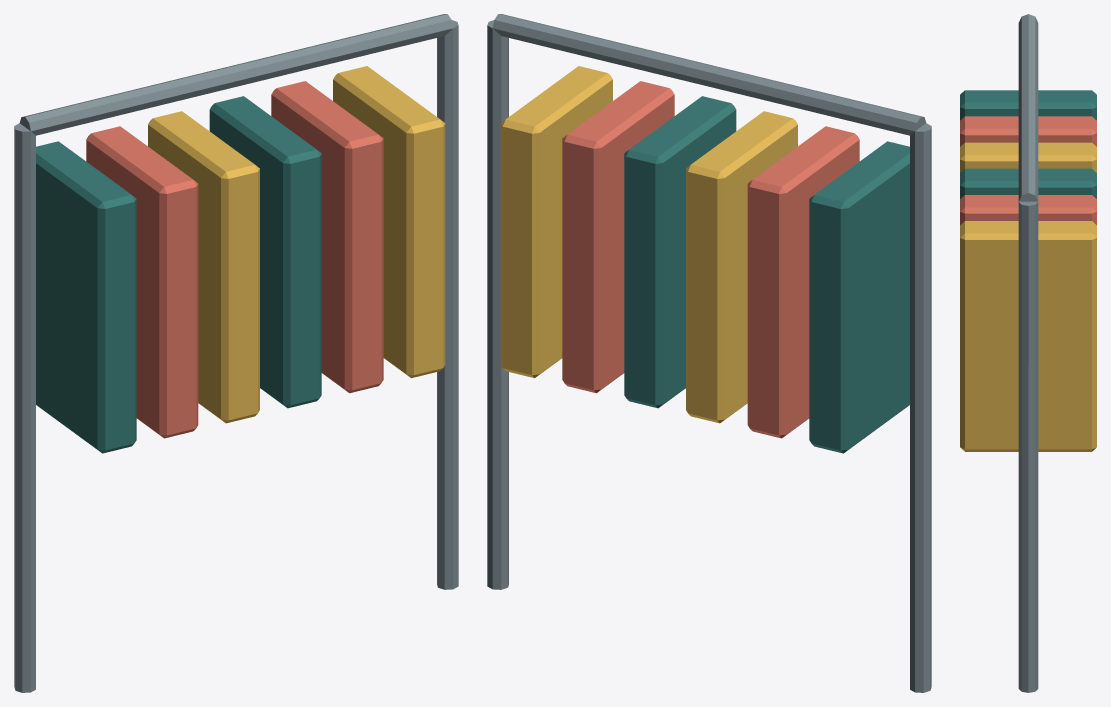
The model's file is Prop_ClothingRack.fbx.
3 renders of one model, left to right at view 1: azimuth 30°, elevation 25°; view 2: azimuth 150°, elevation 25°; view 3: azimuth 270°, elevation 25°, orthographic. The views are drawn at different scales.
Parts seen in each view (by area): view 1: HangingGarment, HangingGarment.004, HangingGarment.005, HangingGarment.001, HangingGarment.003, HangingGarment.002, Post, Post.001, TopRail; view 2: HangingGarment, HangingGarment.004, HangingGarment.005, HangingGarment.001, HangingGarment.003, HangingGarment.002, Post, Post.001, TopRail; view 3: HangingGarment.005, Post.001, TopRail, HangingGarment, HangingGarment.001, HangingGarment.002, HangingGarment.003, HangingGarment.004.
Boxes of the visible parts, x1=… form: HangingGarment: x1=36, y1=141, x2=136, y2=453; HangingGarment.004: x1=271, y1=81, x2=383, y2=393; HangingGarment.005: x1=333, y1=66, x2=445, y2=378; HangingGarment.001: x1=86, y1=126, x2=198, y2=438; HangingGarment.003: x1=209, y1=96, x2=321, y2=408; HangingGarment.002: x1=148, y1=111, x2=259, y2=423; Post: x1=14, y1=123, x2=35, y2=692; Post.001: x1=437, y1=20, x2=458, y2=589; TopRail: x1=19, y1=14, x2=453, y2=135; HangingGarment: x1=809, y1=141, x2=909, y2=453; HangingGarment.004: x1=562, y1=81, x2=674, y2=393; HangingGarment.005: x1=500, y1=66, x2=612, y2=378; HangingGarment.001: x1=747, y1=126, x2=859, y2=438; HangingGarment.003: x1=624, y1=96, x2=736, y2=408; HangingGarment.002: x1=686, y1=111, x2=797, y2=423; Post: x1=910, y1=123, x2=931, y2=692; Post.001: x1=487, y1=20, x2=508, y2=589; TopRail: x1=492, y1=14, x2=926, y2=135; HangingGarment.005: x1=960, y1=221, x2=1096, y2=451; Post.001: x1=1018, y1=201, x2=1038, y2=692; TopRail: x1=1018, y1=14, x2=1038, y2=201; HangingGarment: x1=960, y1=90, x2=1096, y2=120; HangingGarment.001: x1=960, y1=116, x2=1096, y2=146; HangingGarment.002: x1=960, y1=142, x2=1096, y2=172; HangingGarment.003: x1=960, y1=168, x2=1096, y2=198; HangingGarment.004: x1=960, y1=195, x2=1096, y2=224.
Bounding box in the file's own units: 1.36 × 1.68 × 0.42.
